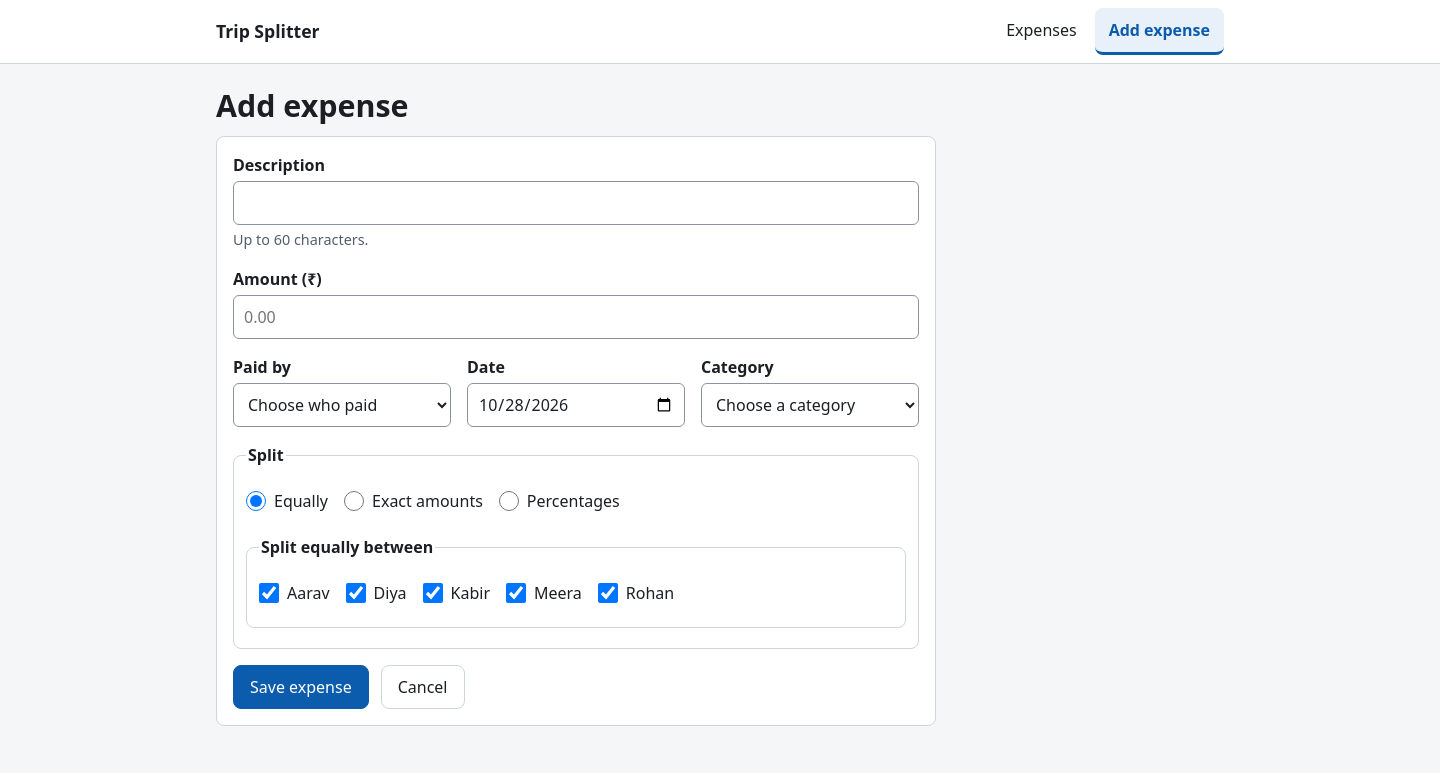
Add expense form: invalid input › shows how much is left to assign for an exact split
This screenshot has width=1440, height=773.
Type "100" into the field labelled "Amount (₹)".
click(576, 317); type("100")  # box [233,295,919,339]
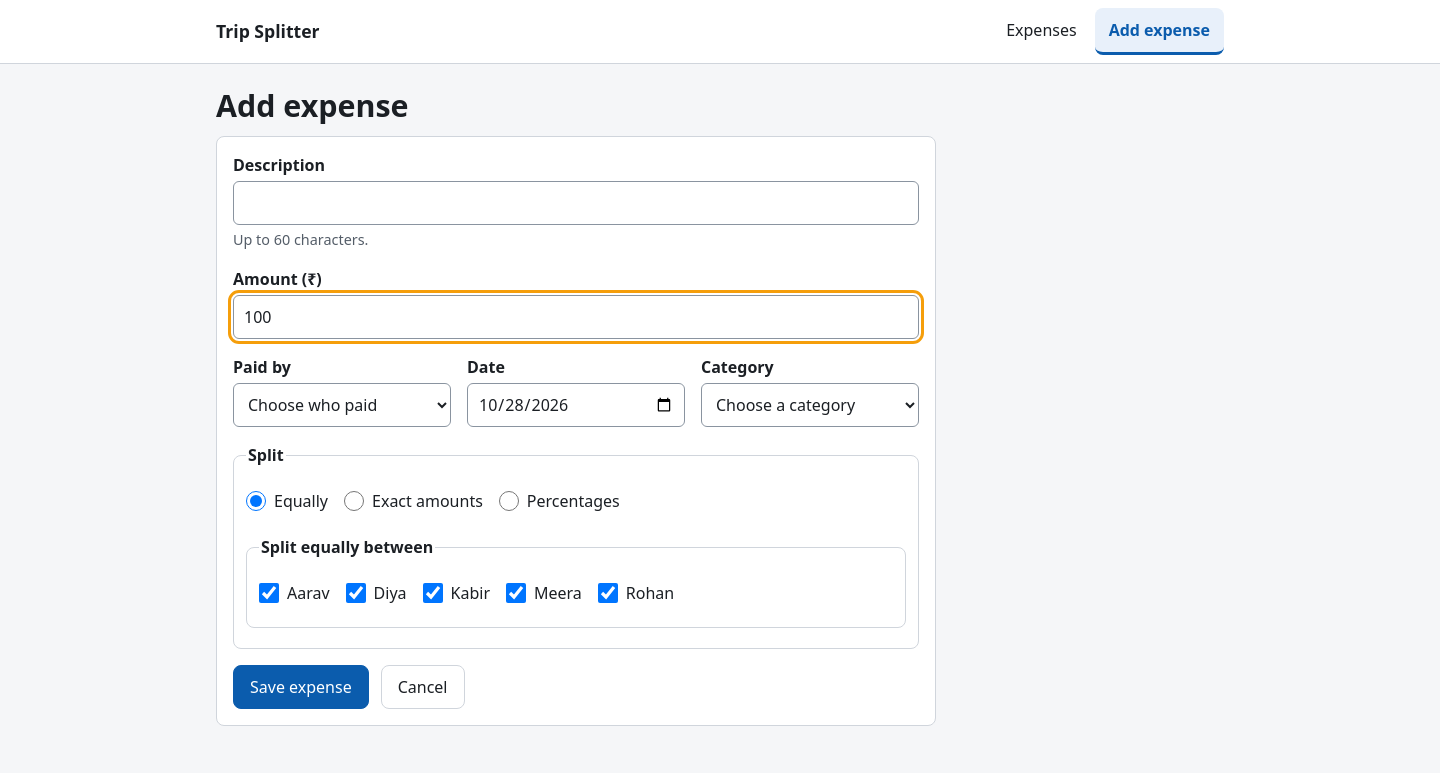
Click the radio button labelled "Exact amounts".
click(354, 501)  # box [344,491,364,511]
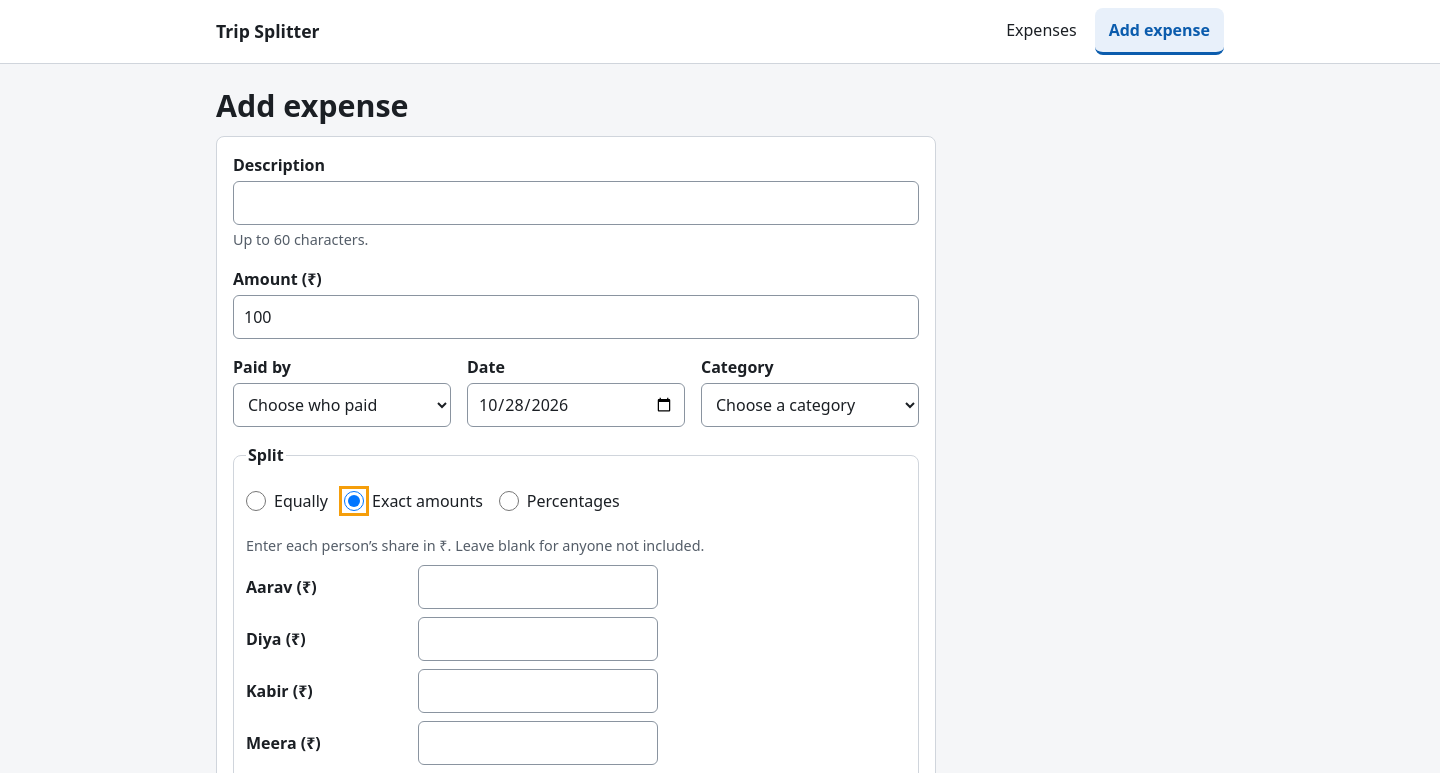
Type "50" into the field labelled "Aarav (₹)".
click(538, 587); type("50")  # box [418,565,658,609]
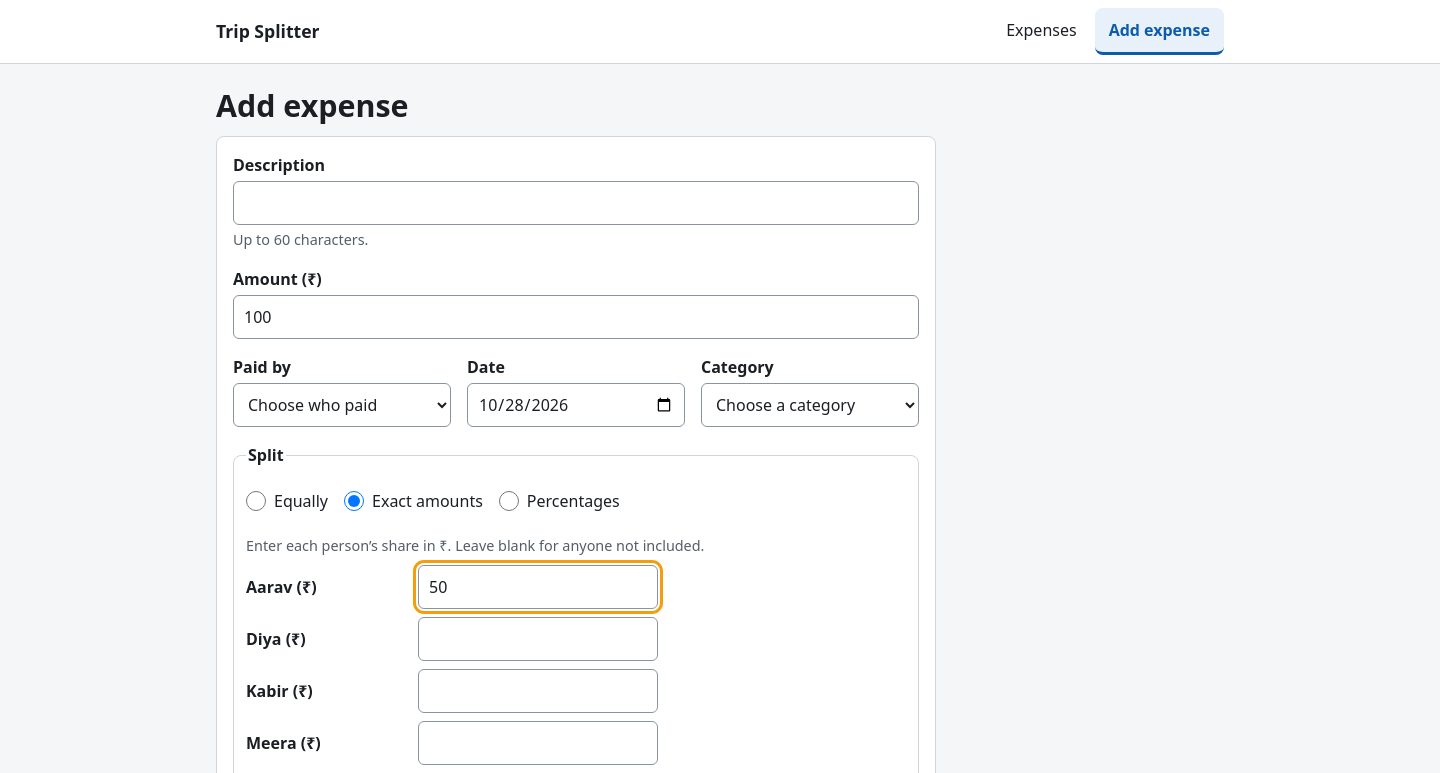
Type "37.50" into the field labelled "Diya (₹)".
click(538, 639); type("37.50")  # box [418,617,658,661]
(page scrolled)
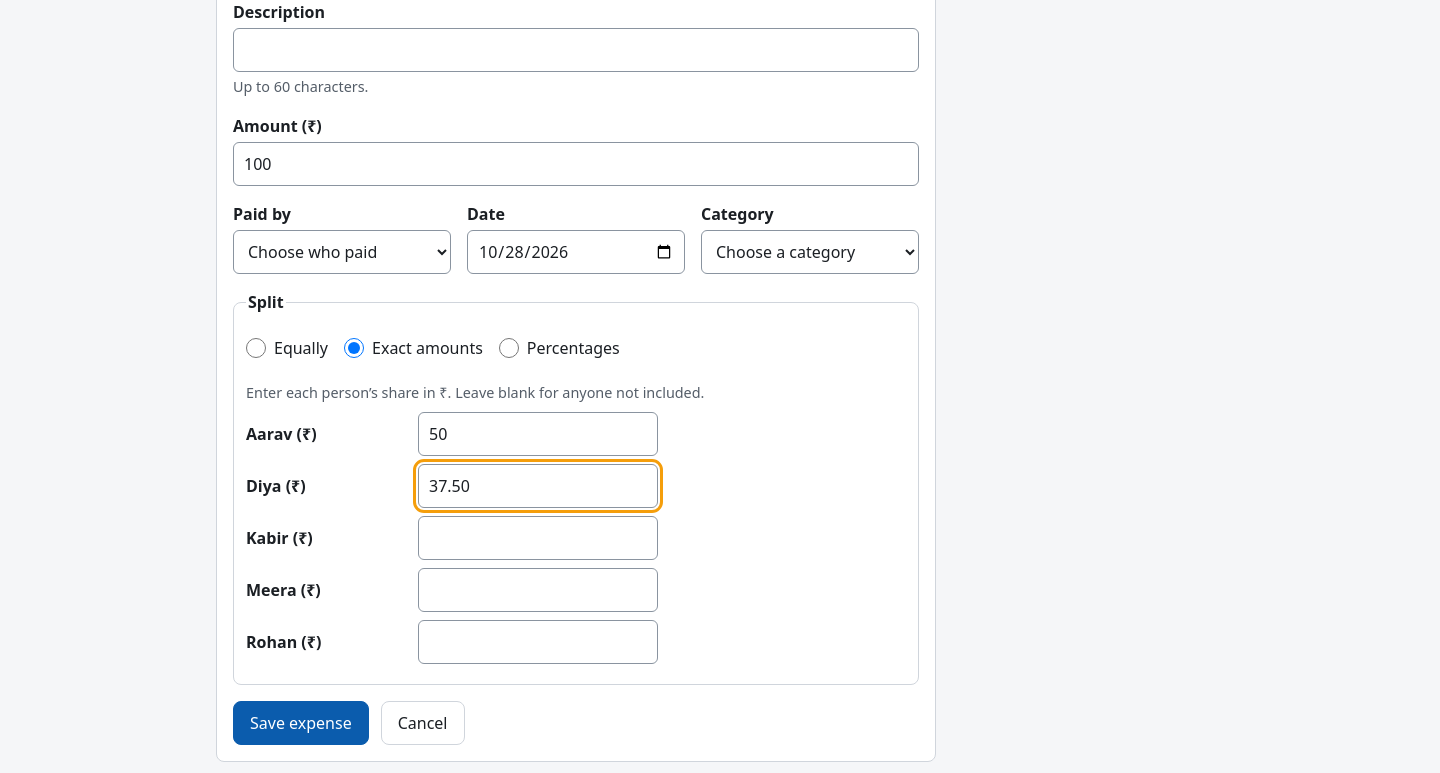
Click the button "Save expense".
click(301, 723)  # box [233,701,369,745]
(page scrolled)
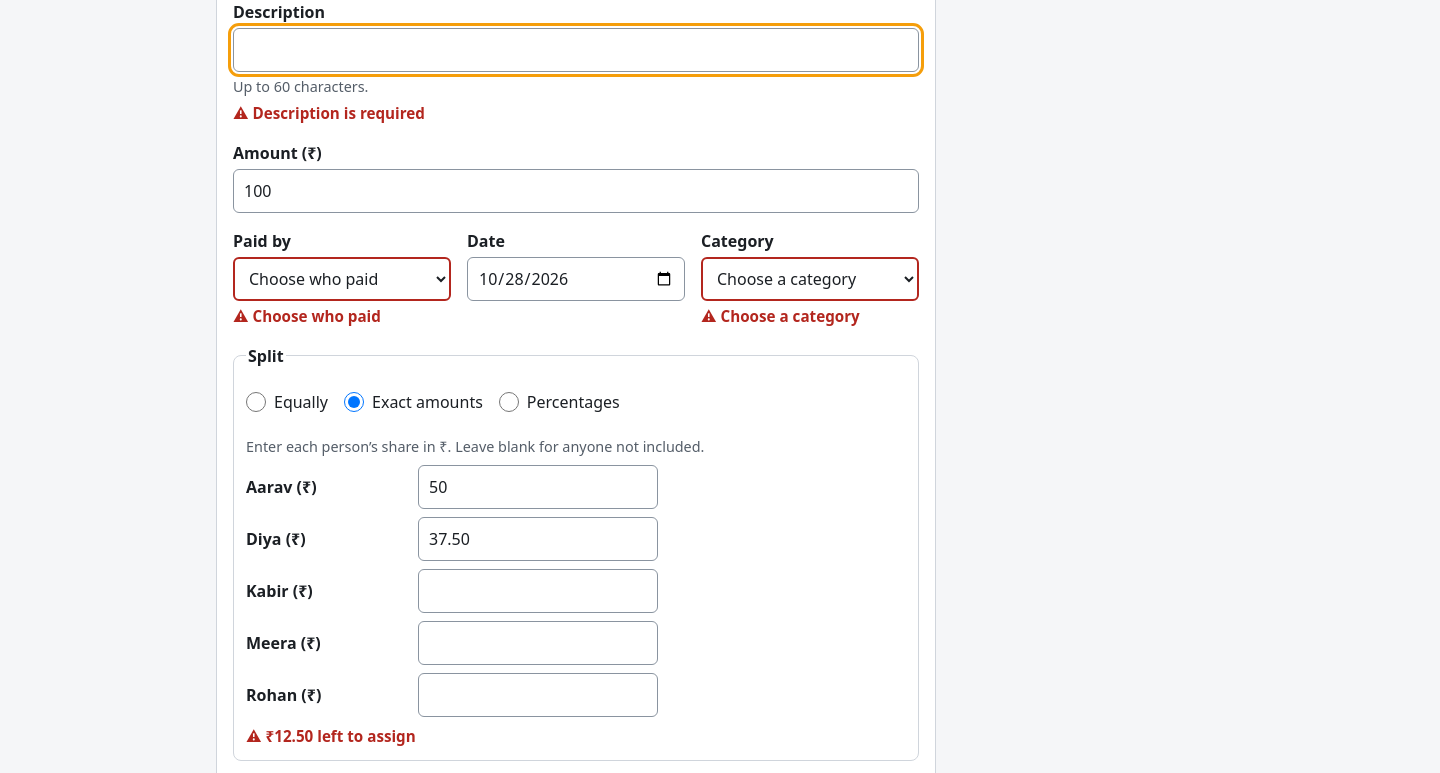
Expected: the text "₹12.50 left to assign" is shown, [266,726,416,746]
